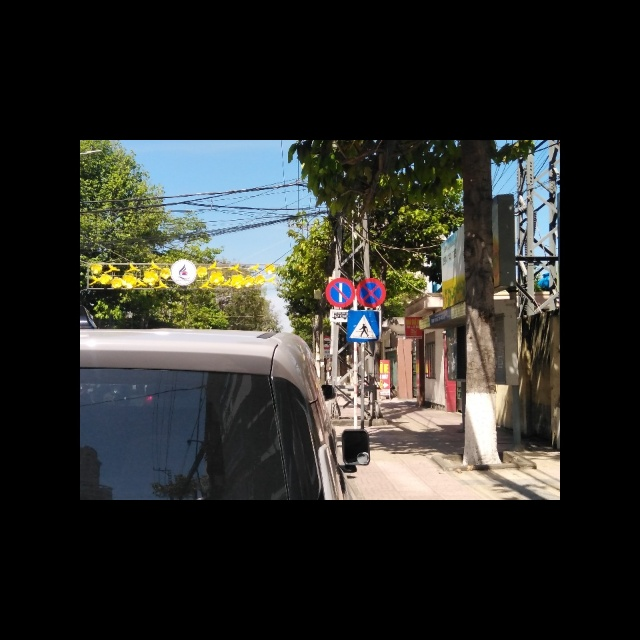Cấm dừng xe và đỗ xe: (354, 277, 387, 307)
Cấm đỗ xe ngày lẻ: (325, 277, 356, 308)
Đường dành cho người đi bộ: (347, 309, 379, 340)
